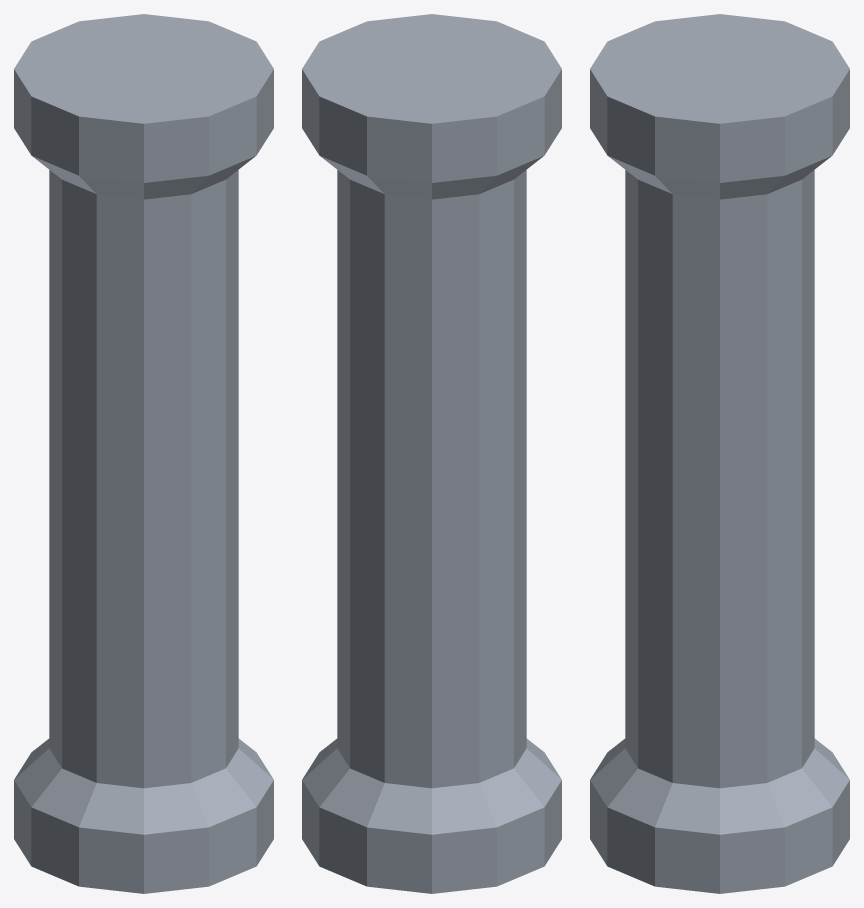
Rendered from Column.fbx.
3 renders of one model, left to right at view 1: azimuth 30°, elevation 25°; view 2: azimuth 150°, elevation 25°; view 3: azimuth 270°, elevation 25°, orthographic.
Parts seen in each view (by area): view 1: Column; view 2: Column; view 3: Column.
Boxes of the visible parts, left/top/right/bottom form: Column: left=14, top=14, right=273, bottom=893; Column: left=302, top=14, right=561, bottom=893; Column: left=590, top=14, right=849, bottom=893.
Size of the model in its own units: 122 by 400 by 122.
